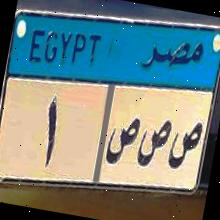1: (38, 89, 68, 169)
saad: (165, 117, 205, 174), (103, 113, 140, 174), (135, 116, 172, 174)
